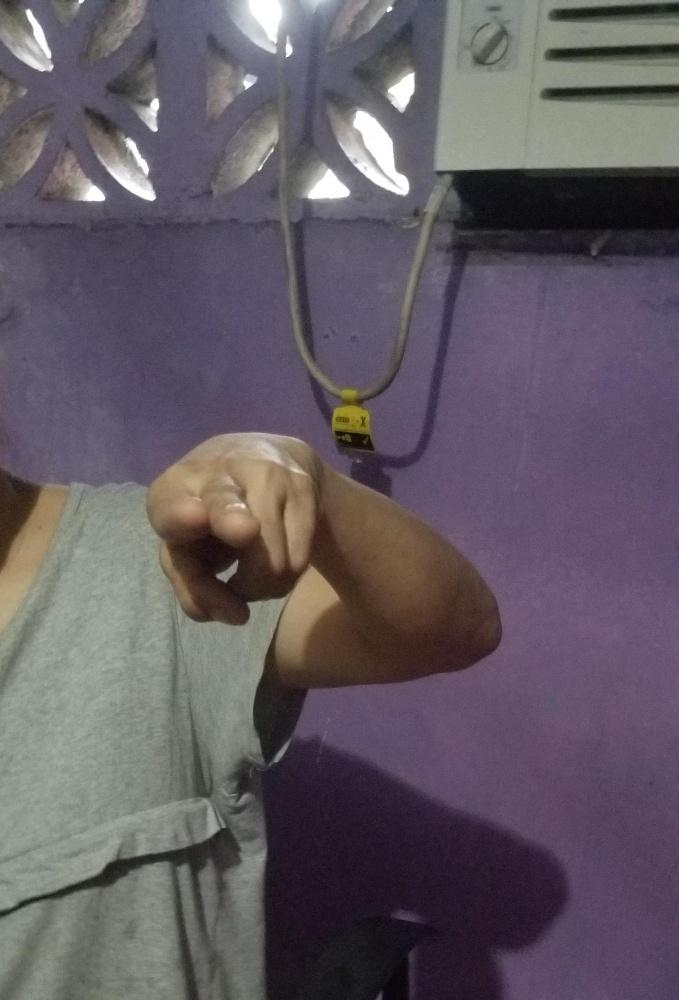n: (144, 433, 319, 628)
